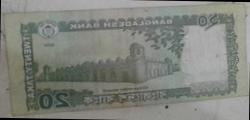20 taka: (5, 14, 245, 112)
